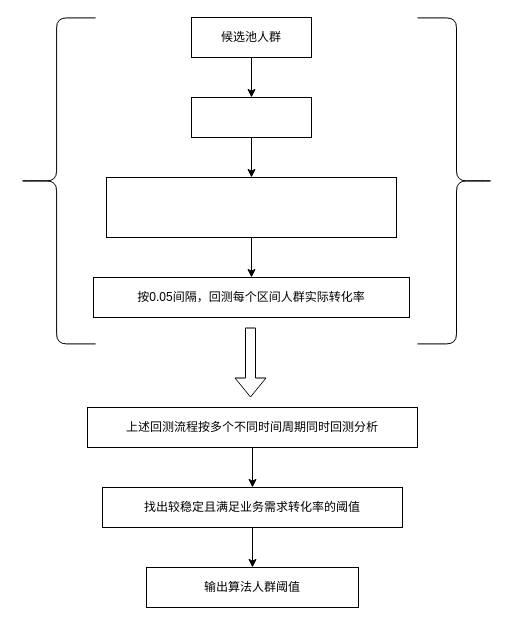
This 513x625 diagram has some shape labels left out. Here are the shapes that lost their labels. From the top down, the centre of each, then its label:
At (251,117): "模型预测".
At (251,207): "输出人群预测为1的概率 （概率为0~1，一般算法逻辑取0.5为正负分界阈值）".
